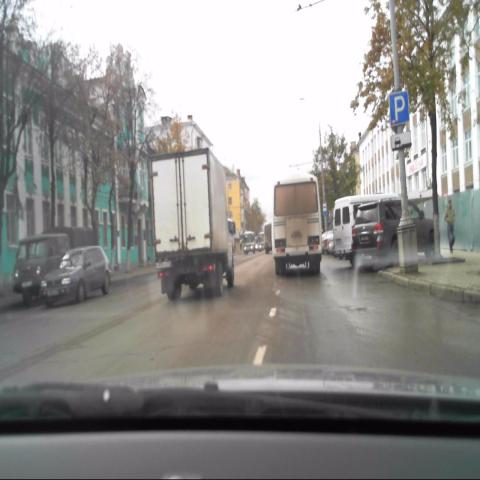8_6_2: (390, 132, 412, 150)
